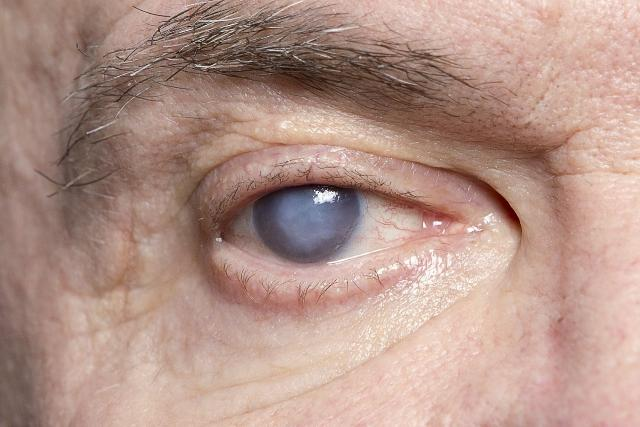eye: (252, 181, 364, 263)
